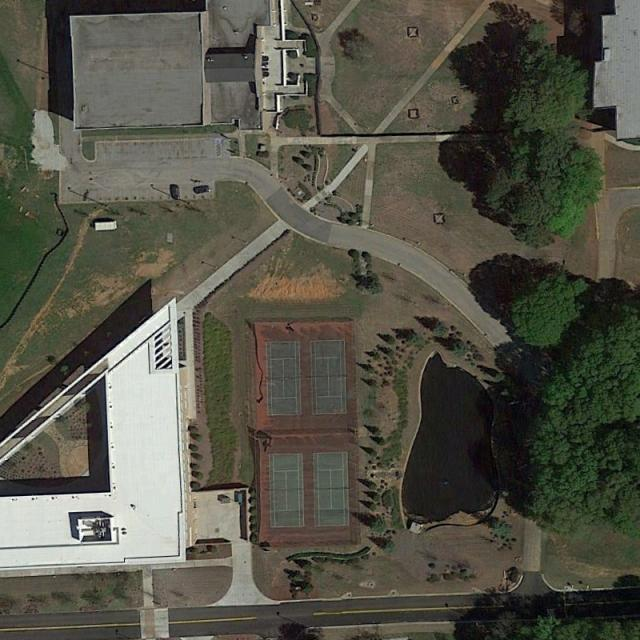vehicle: (170, 186, 180, 201), (194, 186, 211, 194)
